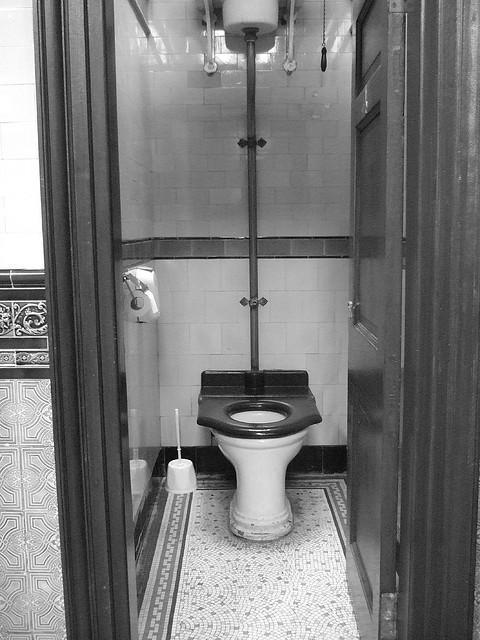Sanitario: (193, 363, 322, 548)
